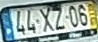0: (67, 4, 79, 28)
4: (25, 9, 37, 34), (16, 10, 26, 36)
6: (77, 3, 89, 27)
X: (37, 6, 55, 33)
Z: (51, 6, 66, 31)
